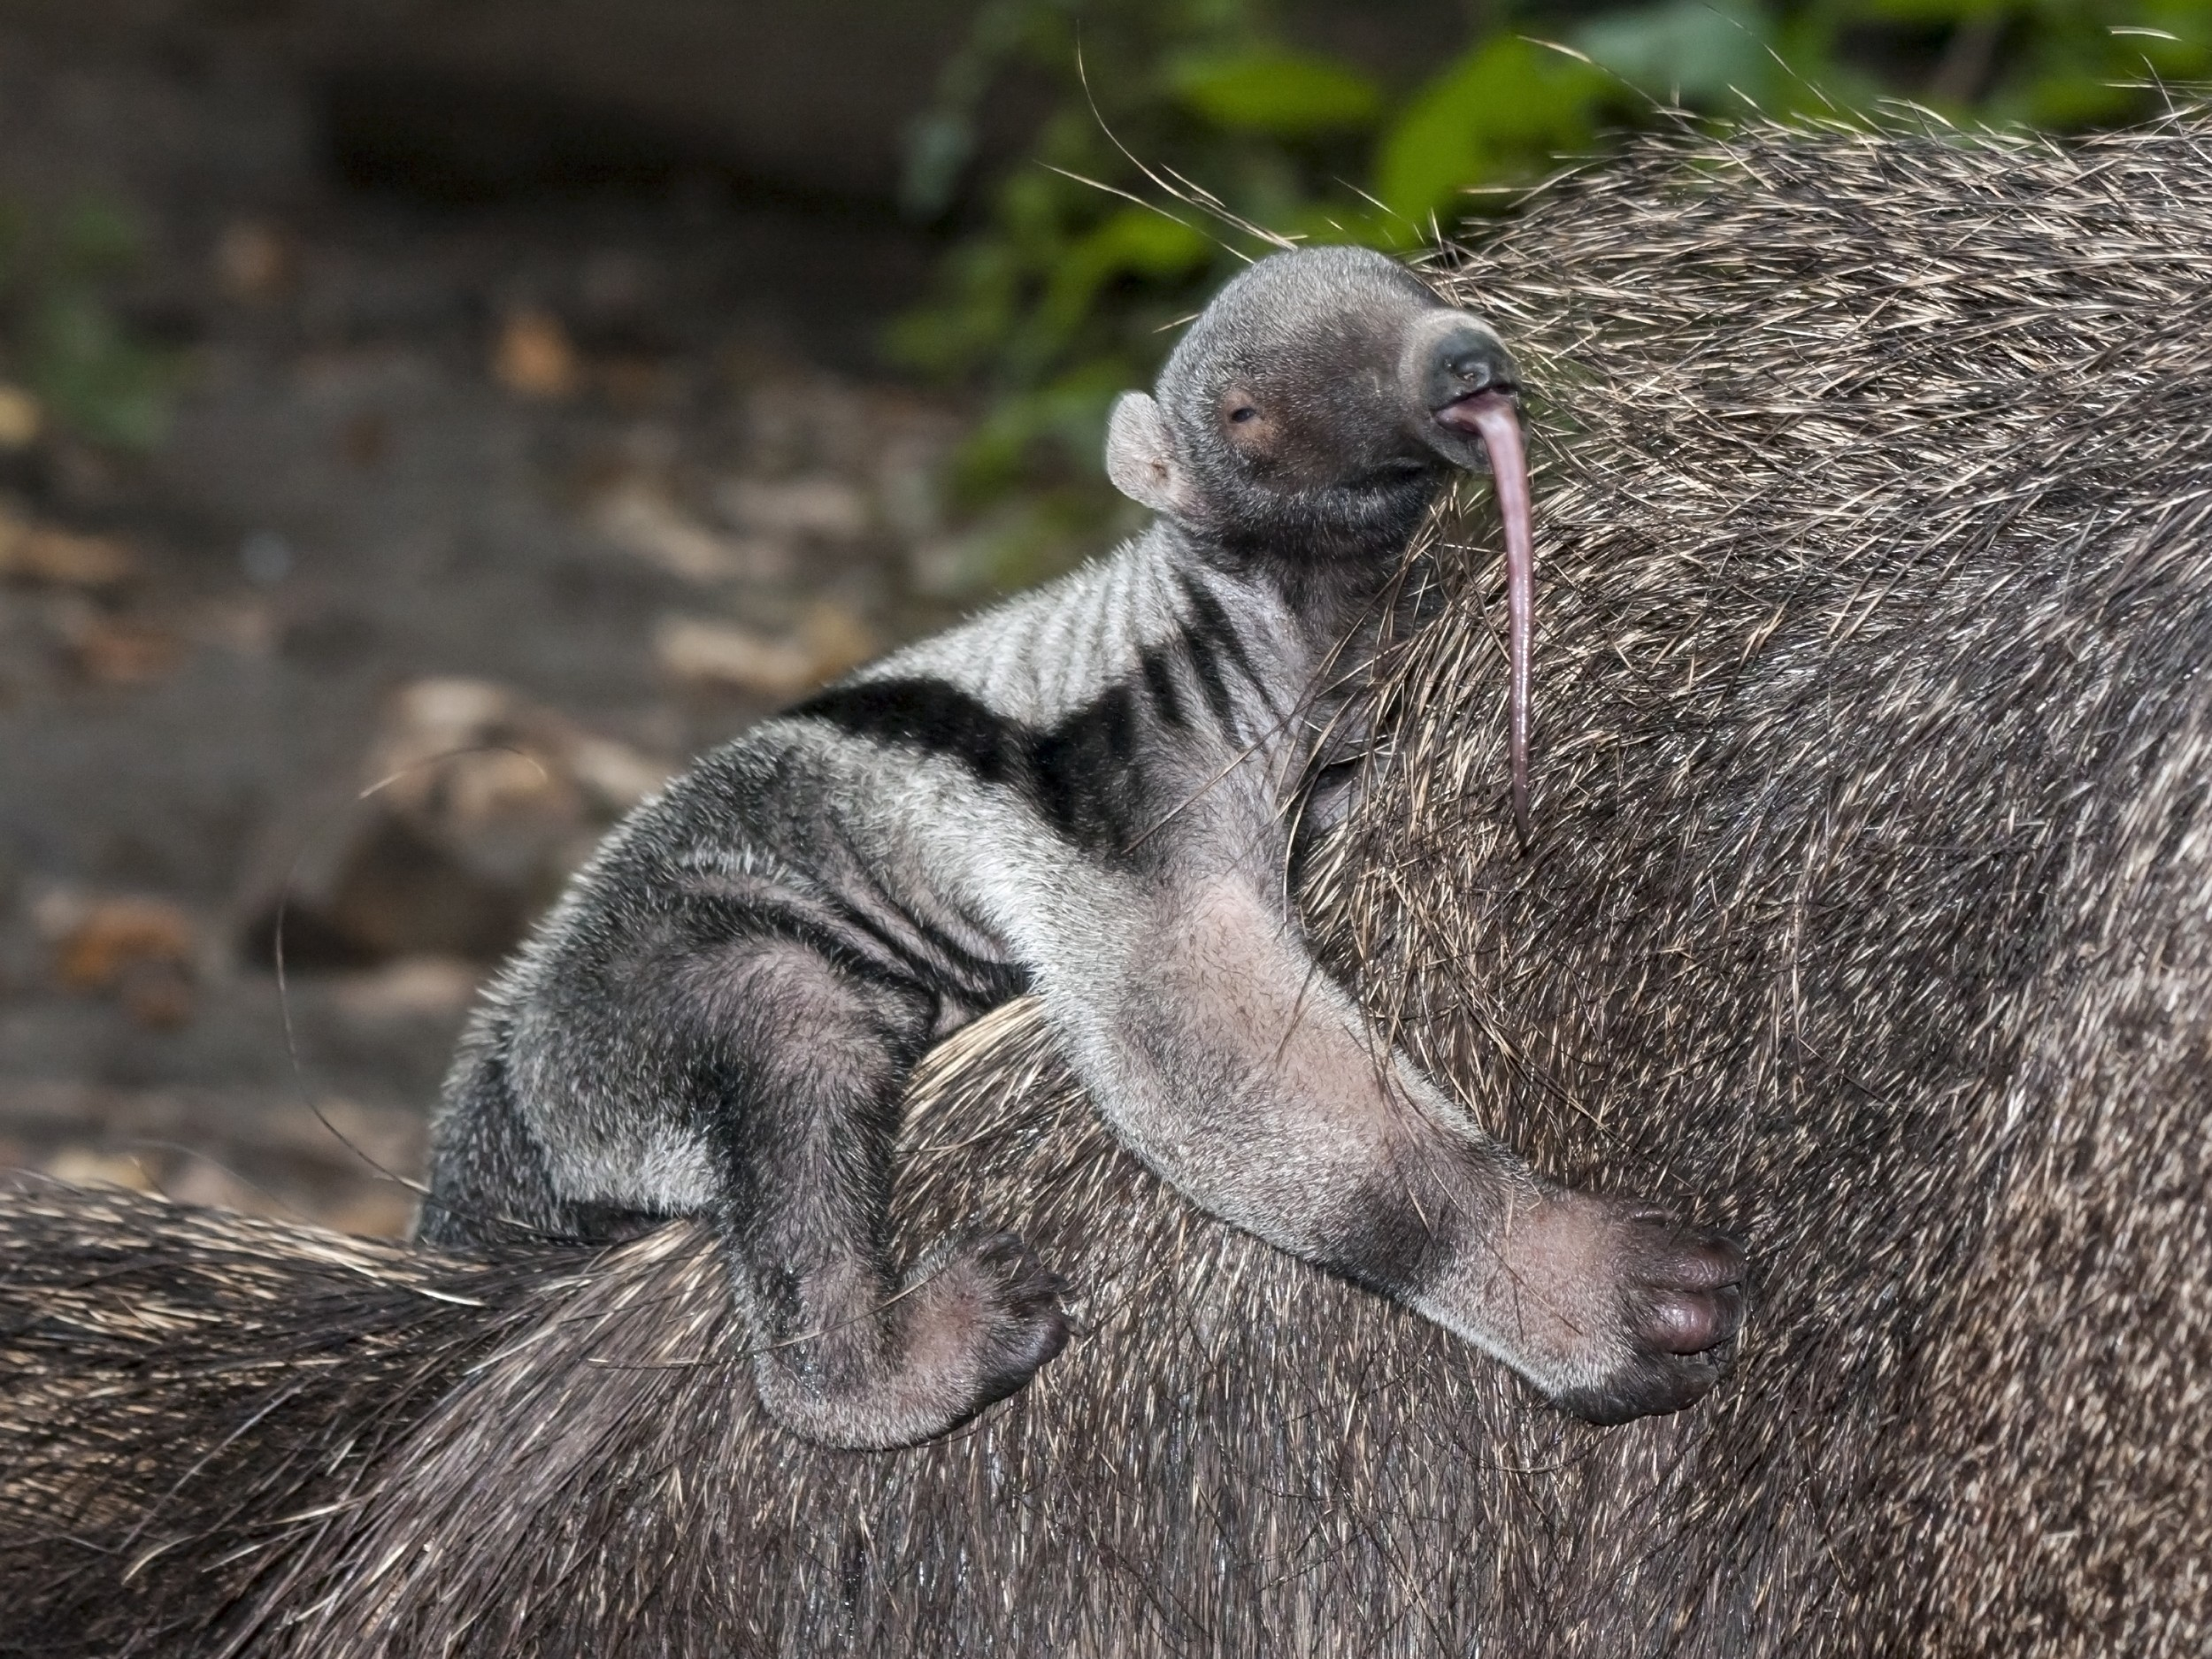TamanduaBandeira: (390, 232, 1756, 1464)
